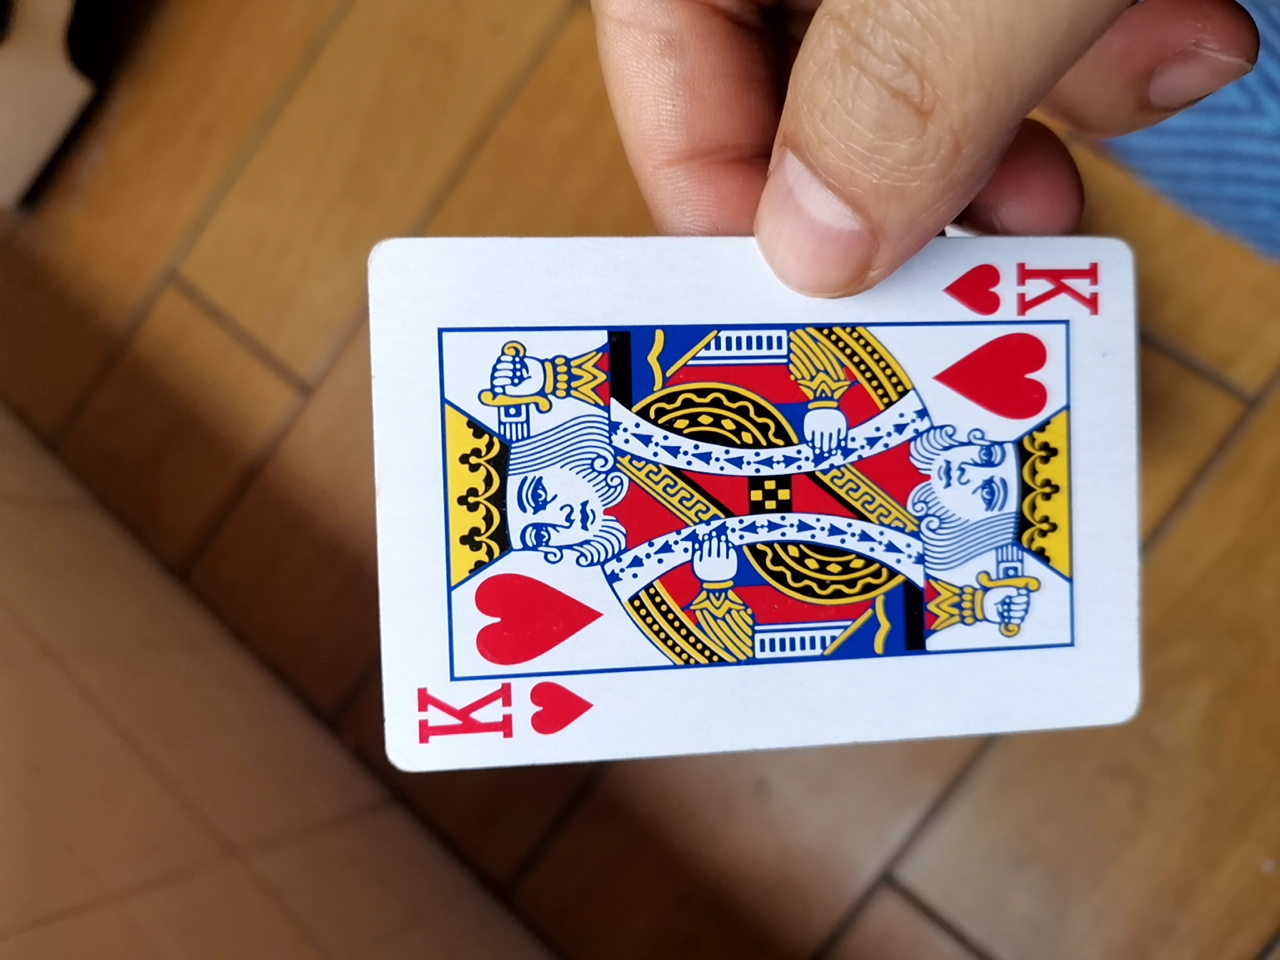hx k: (354, 228, 1135, 777)
